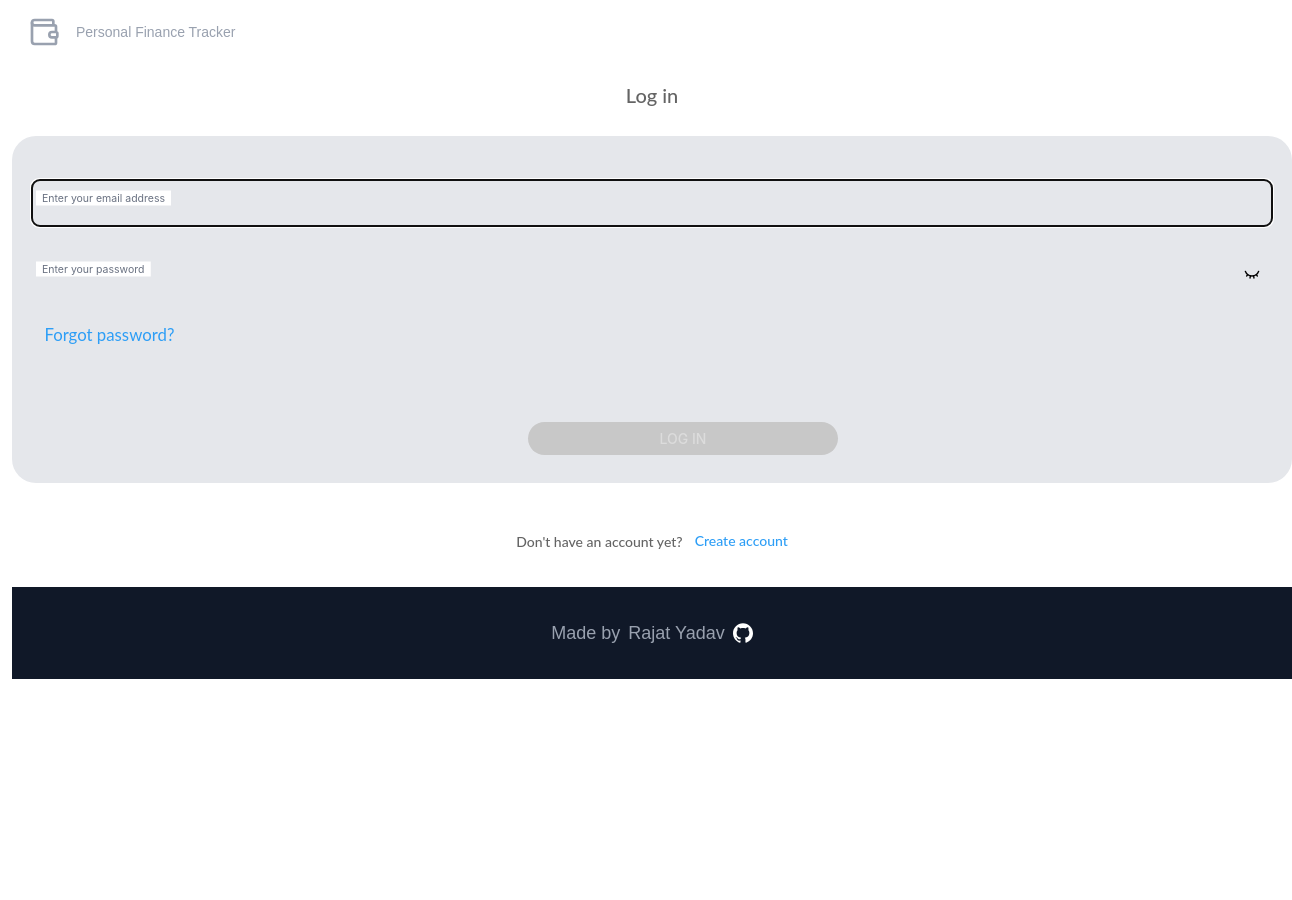
Test: Login page › handles API errors gracefully
The width and height of the screenshot is (1292, 900).
Type "testuser@example.com" into the field labelled "Enter your email address". click: (652, 203)
box: left=32, top=180, right=1272, bottom=226
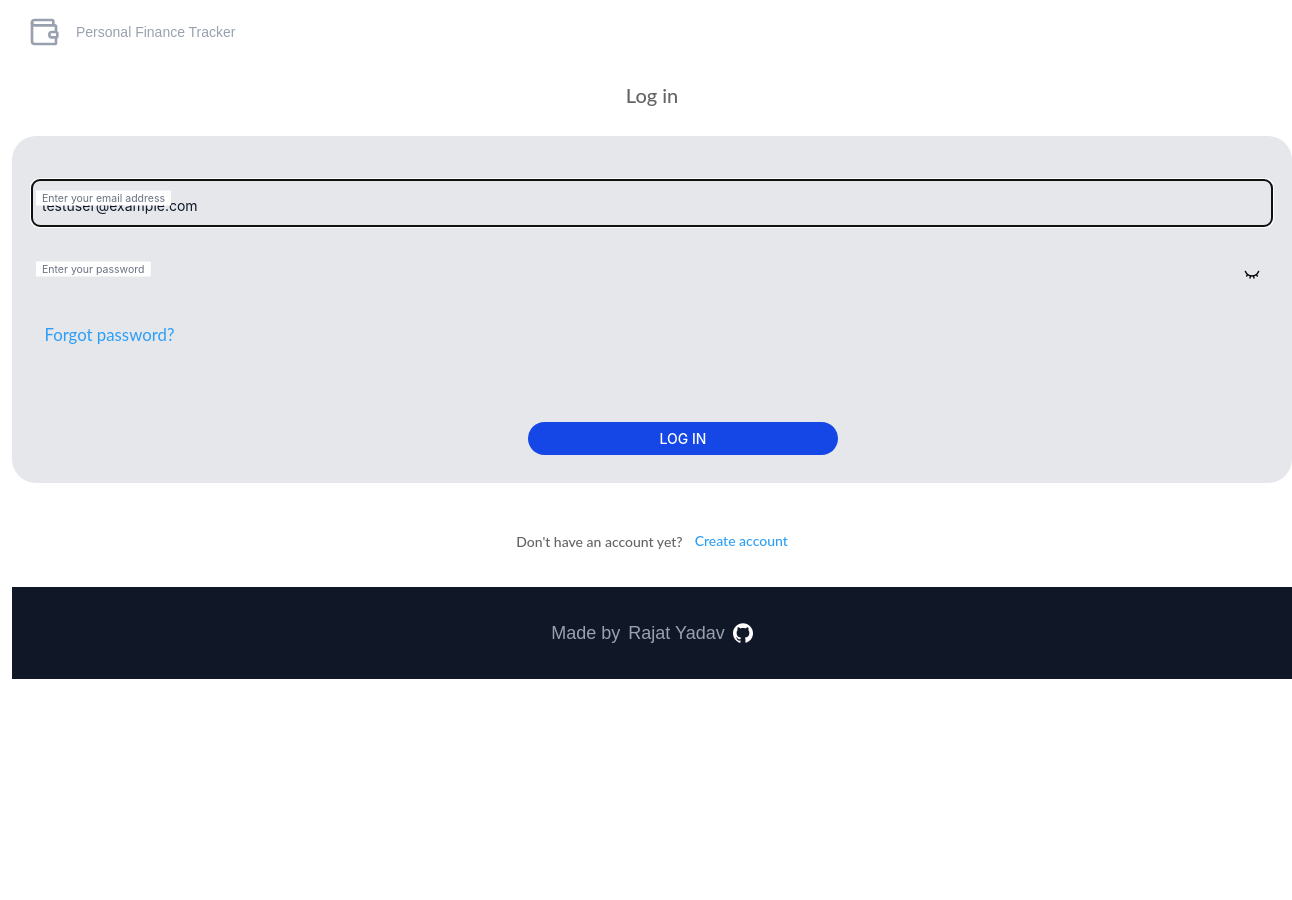
Type "Password.123" into the password field labelled "Enter your password". click: (652, 274)
box: left=32, top=251, right=1272, bottom=297
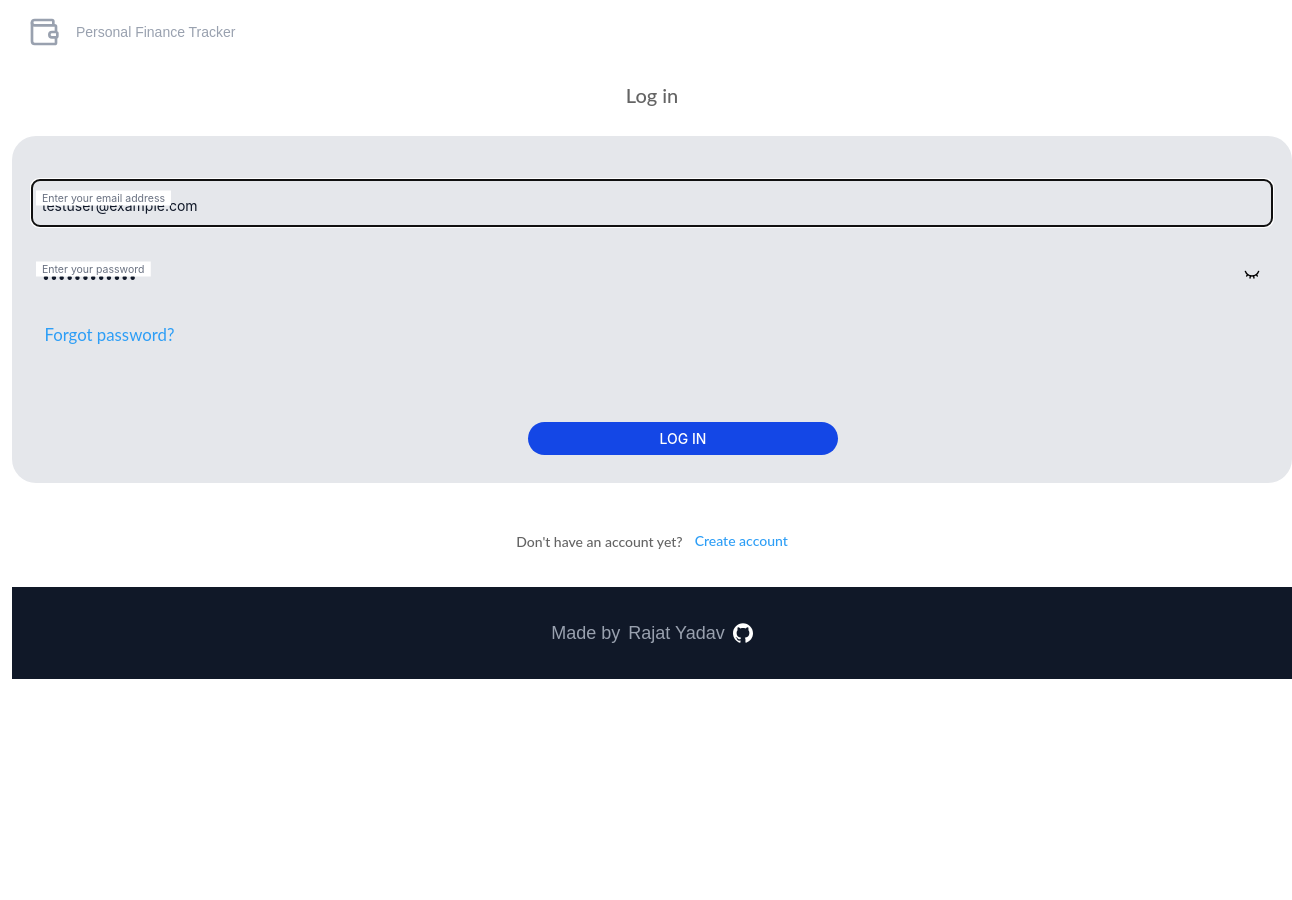
Click the button "LOG IN". click: (683, 438)
box: left=528, top=422, right=838, bottom=455
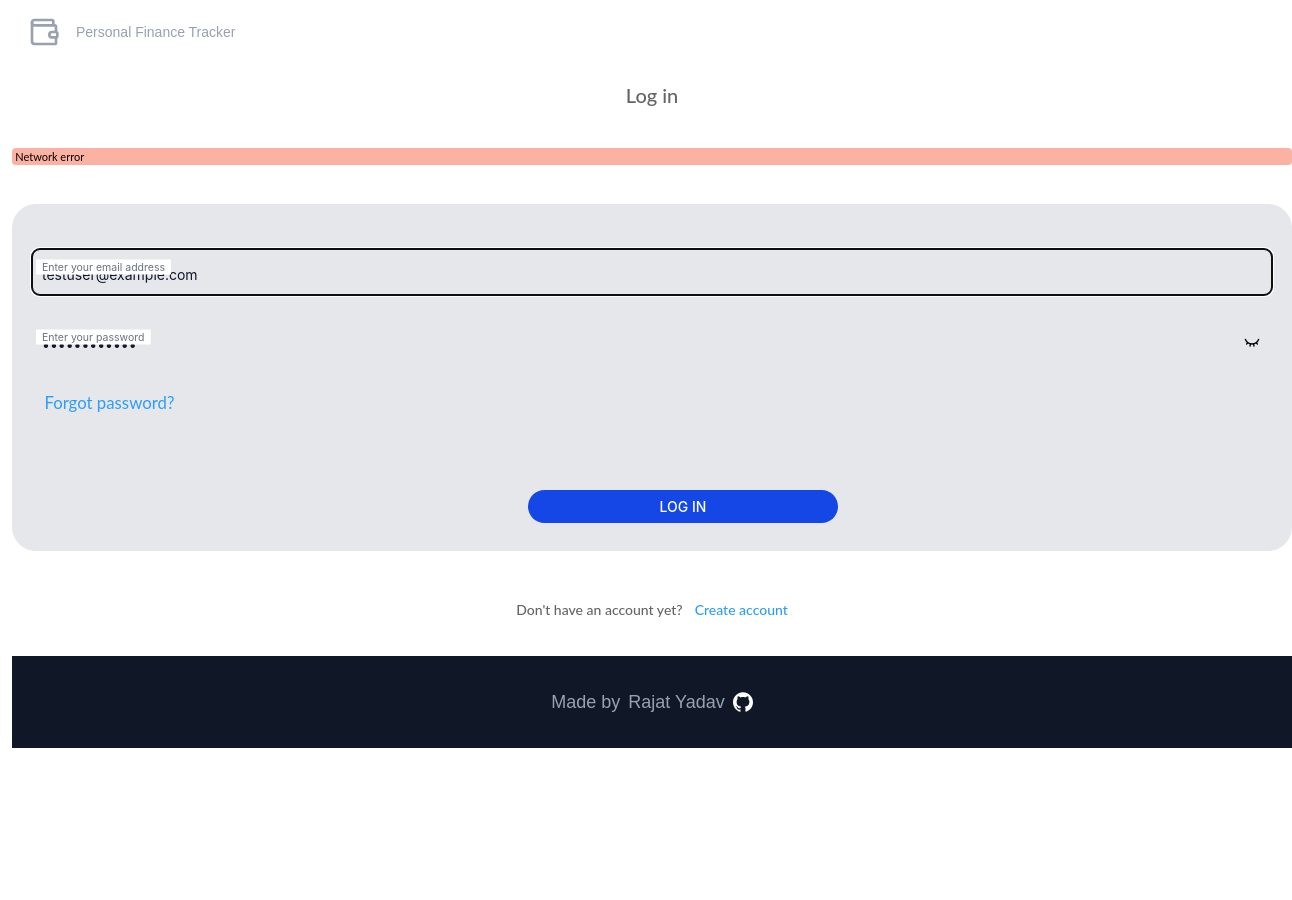
Check: the text "Network error" is shown, box left=12, top=148, right=1291, bottom=165
